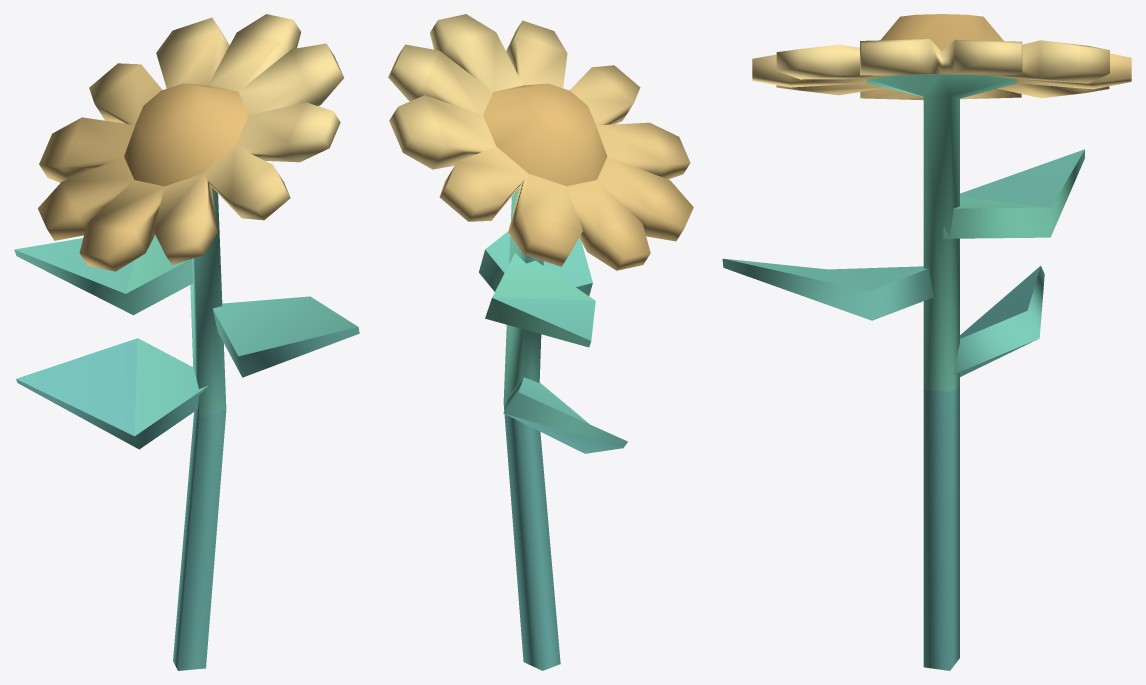
File: wild_flower_yellow.glb
3 views of the same model, side by side, from view 1: azimuth 30°, elevation 25°; view 2: azimuth 150°, elevation 25°; view 3: azimuth 270°, elevation 25° (orthographic). The views are drawn at different scales.
Parts seen in each view (by area): view 1: Wild_flower_Yellow.001; view 2: Wild_flower_Yellow.001; view 3: Wild_flower_Yellow.001.
Boxes of the visible parts, x1,y1,x2,y2 form: Wild_flower_Yellow.001: (14,14,359,670); Wild_flower_Yellow.001: (388,14,693,670); Wild_flower_Yellow.001: (722,14,1131,670).
Bounding box in the file's own units: 0.2097 × 0.4676 × 0.2524.
